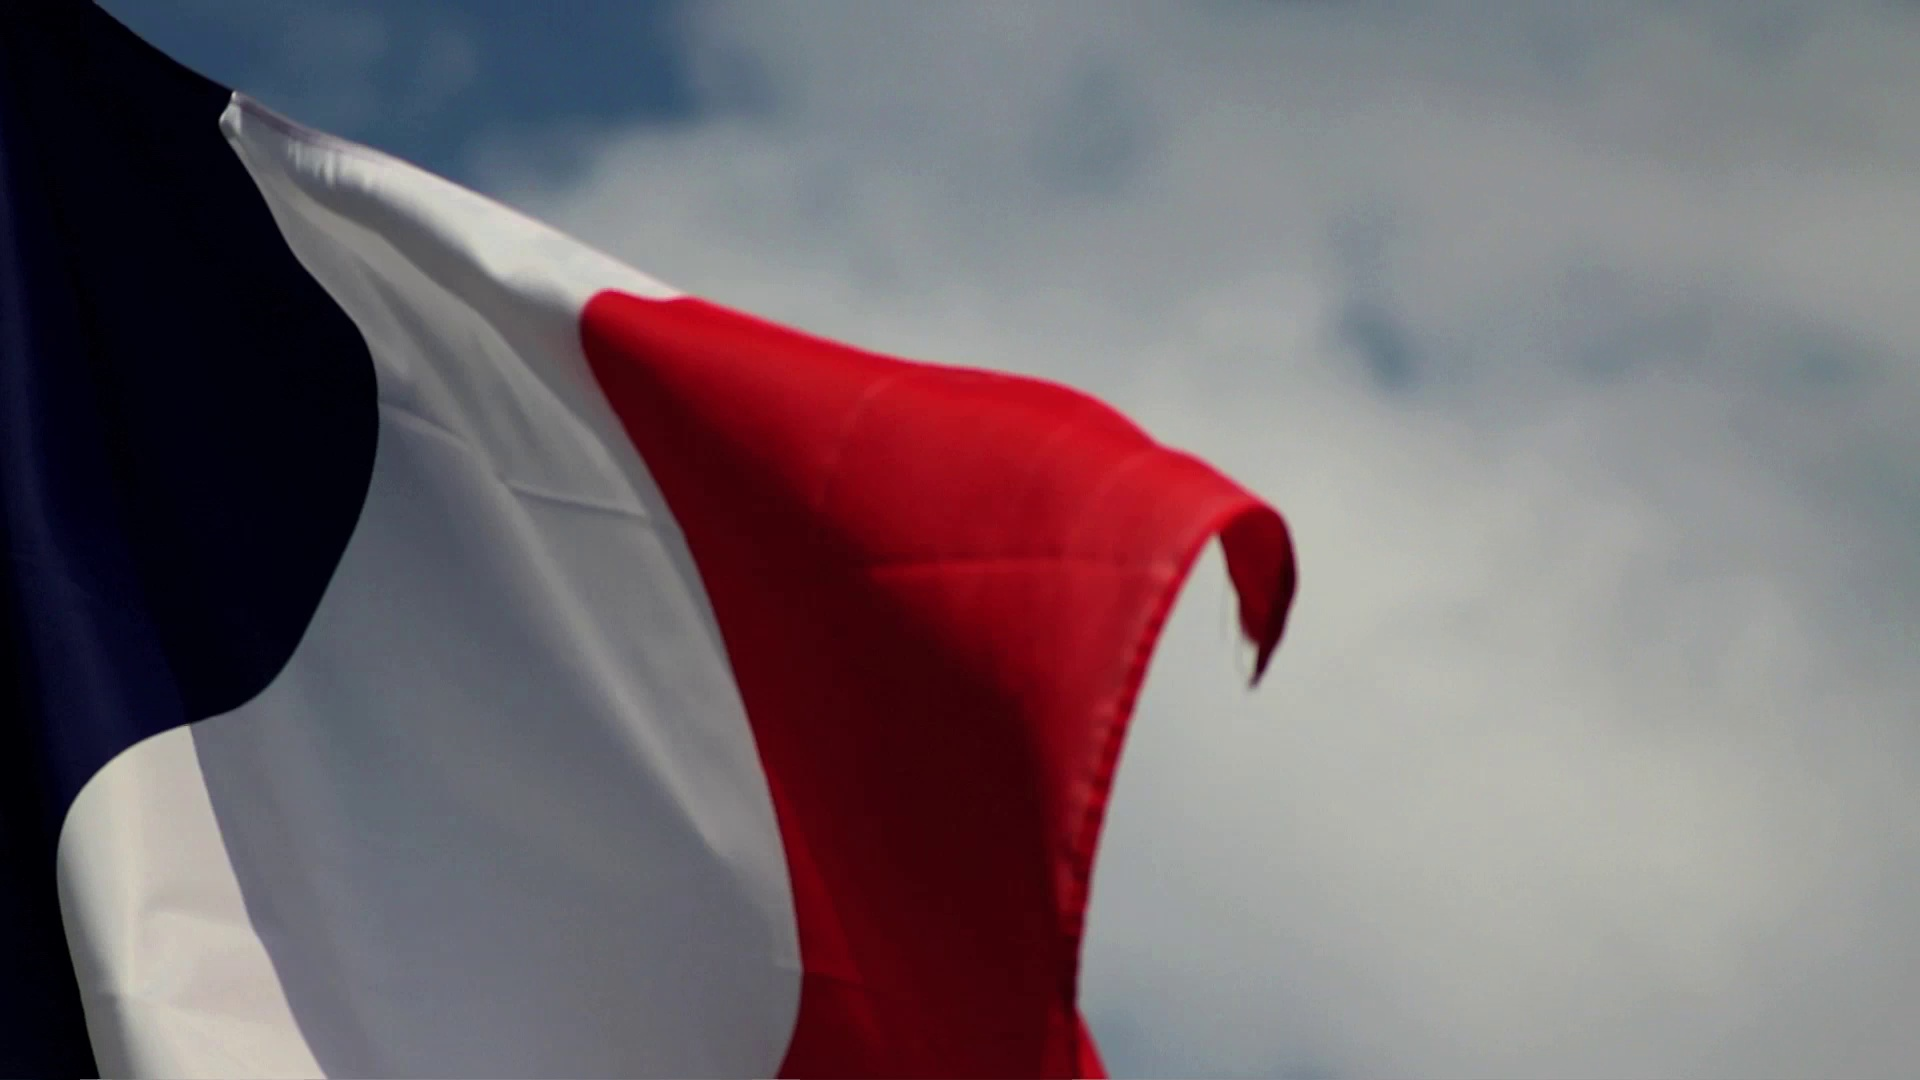French Flag: (1, 1, 1309, 1080)
